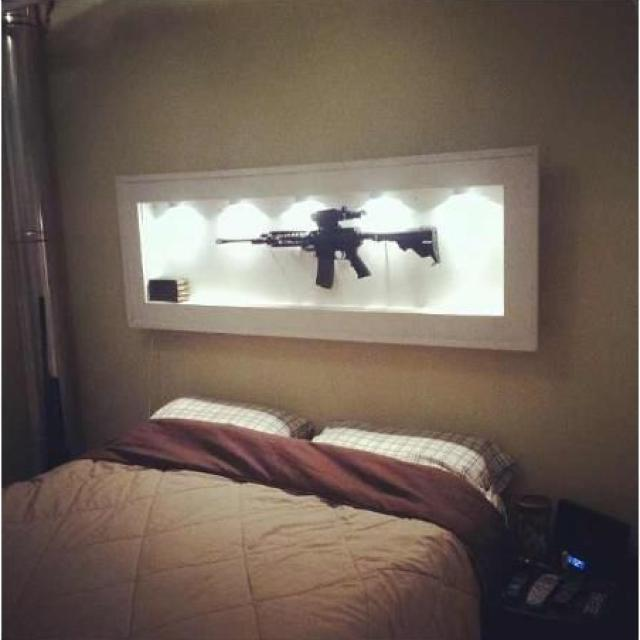Rifle: (225, 208, 439, 290)
